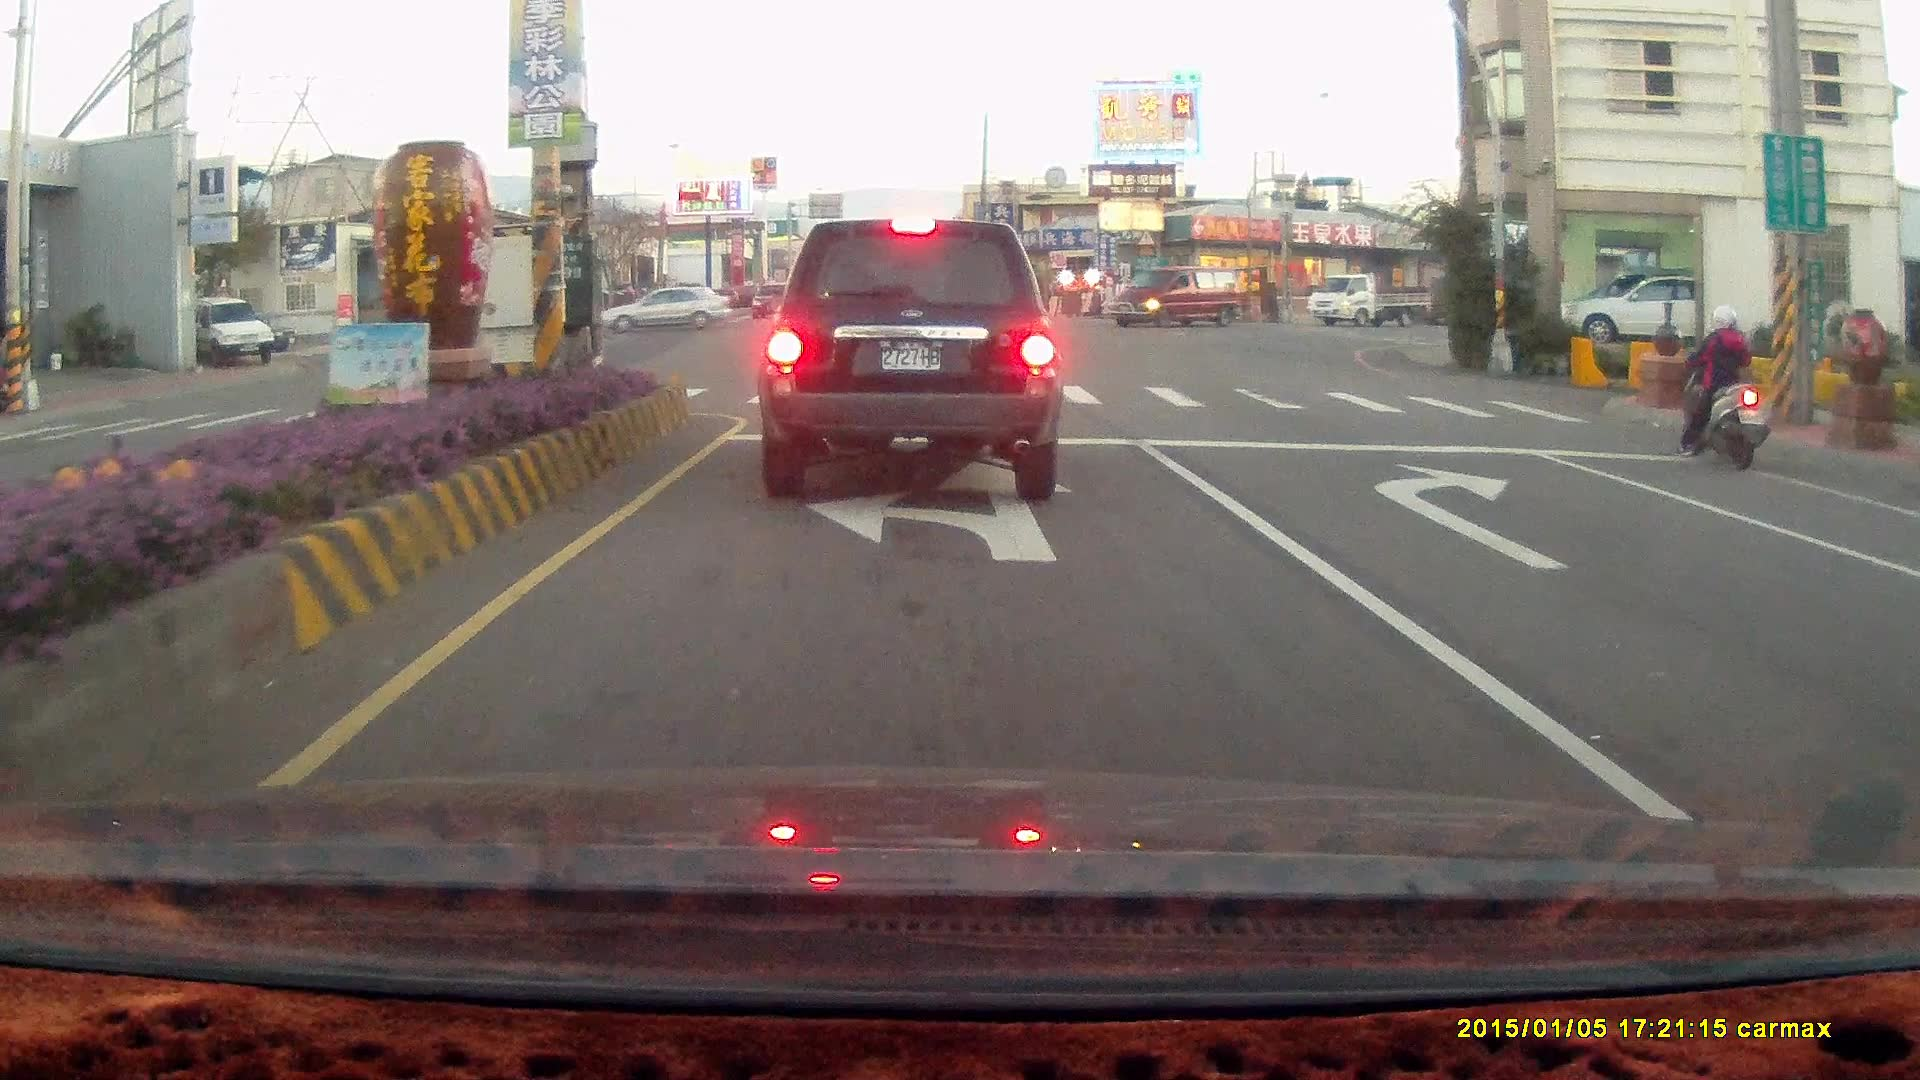rider: (1675, 307, 1770, 474)
vehicle: (753, 216, 1065, 499), (1550, 272, 1743, 350), (1113, 268, 1249, 331), (1108, 265, 1242, 328), (1571, 281, 1701, 346), (1896, 493, 1920, 836), (176, 293, 274, 368), (1310, 274, 1434, 330), (601, 282, 729, 334), (608, 285, 735, 336), (1883, 528, 1920, 690)
